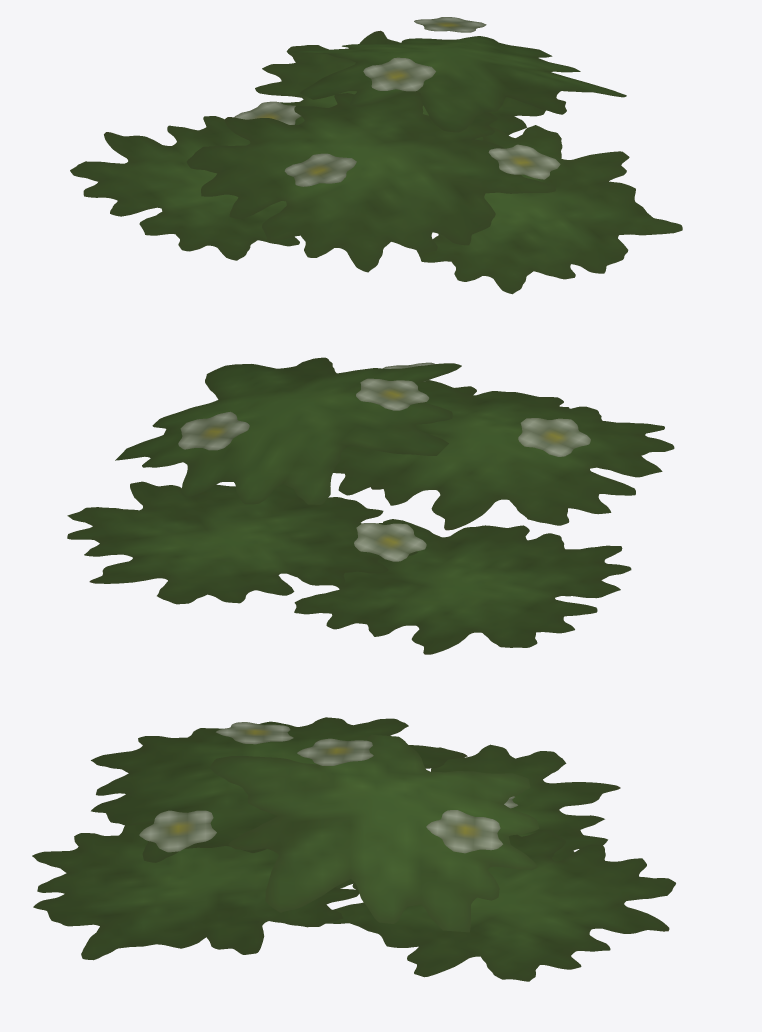
File: Bush_06.fbx
The picture shows the model from 3 angles, top to bottom: view 1: azimuth 30°, elevation 25°; view 2: azimuth 150°, elevation 25°; view 3: azimuth 270°, elevation 25°; orthographic projection. The views are drawn at different scales.
Parts seen in each view (by area): view 1: Bush_06; view 2: Bush_06; view 3: Bush_06.
Part boxes in pixels (x1=…): Bush_06: x1=70, y1=17, x2=682, y2=294; Bush_06: x1=67, y1=357, x2=674, y2=654; Bush_06: x1=32, y1=717, x2=675, y2=981.
Size of the model in its own units: 190 by 43.55 by 207.
Materials: 1 (1 with a texture image).
